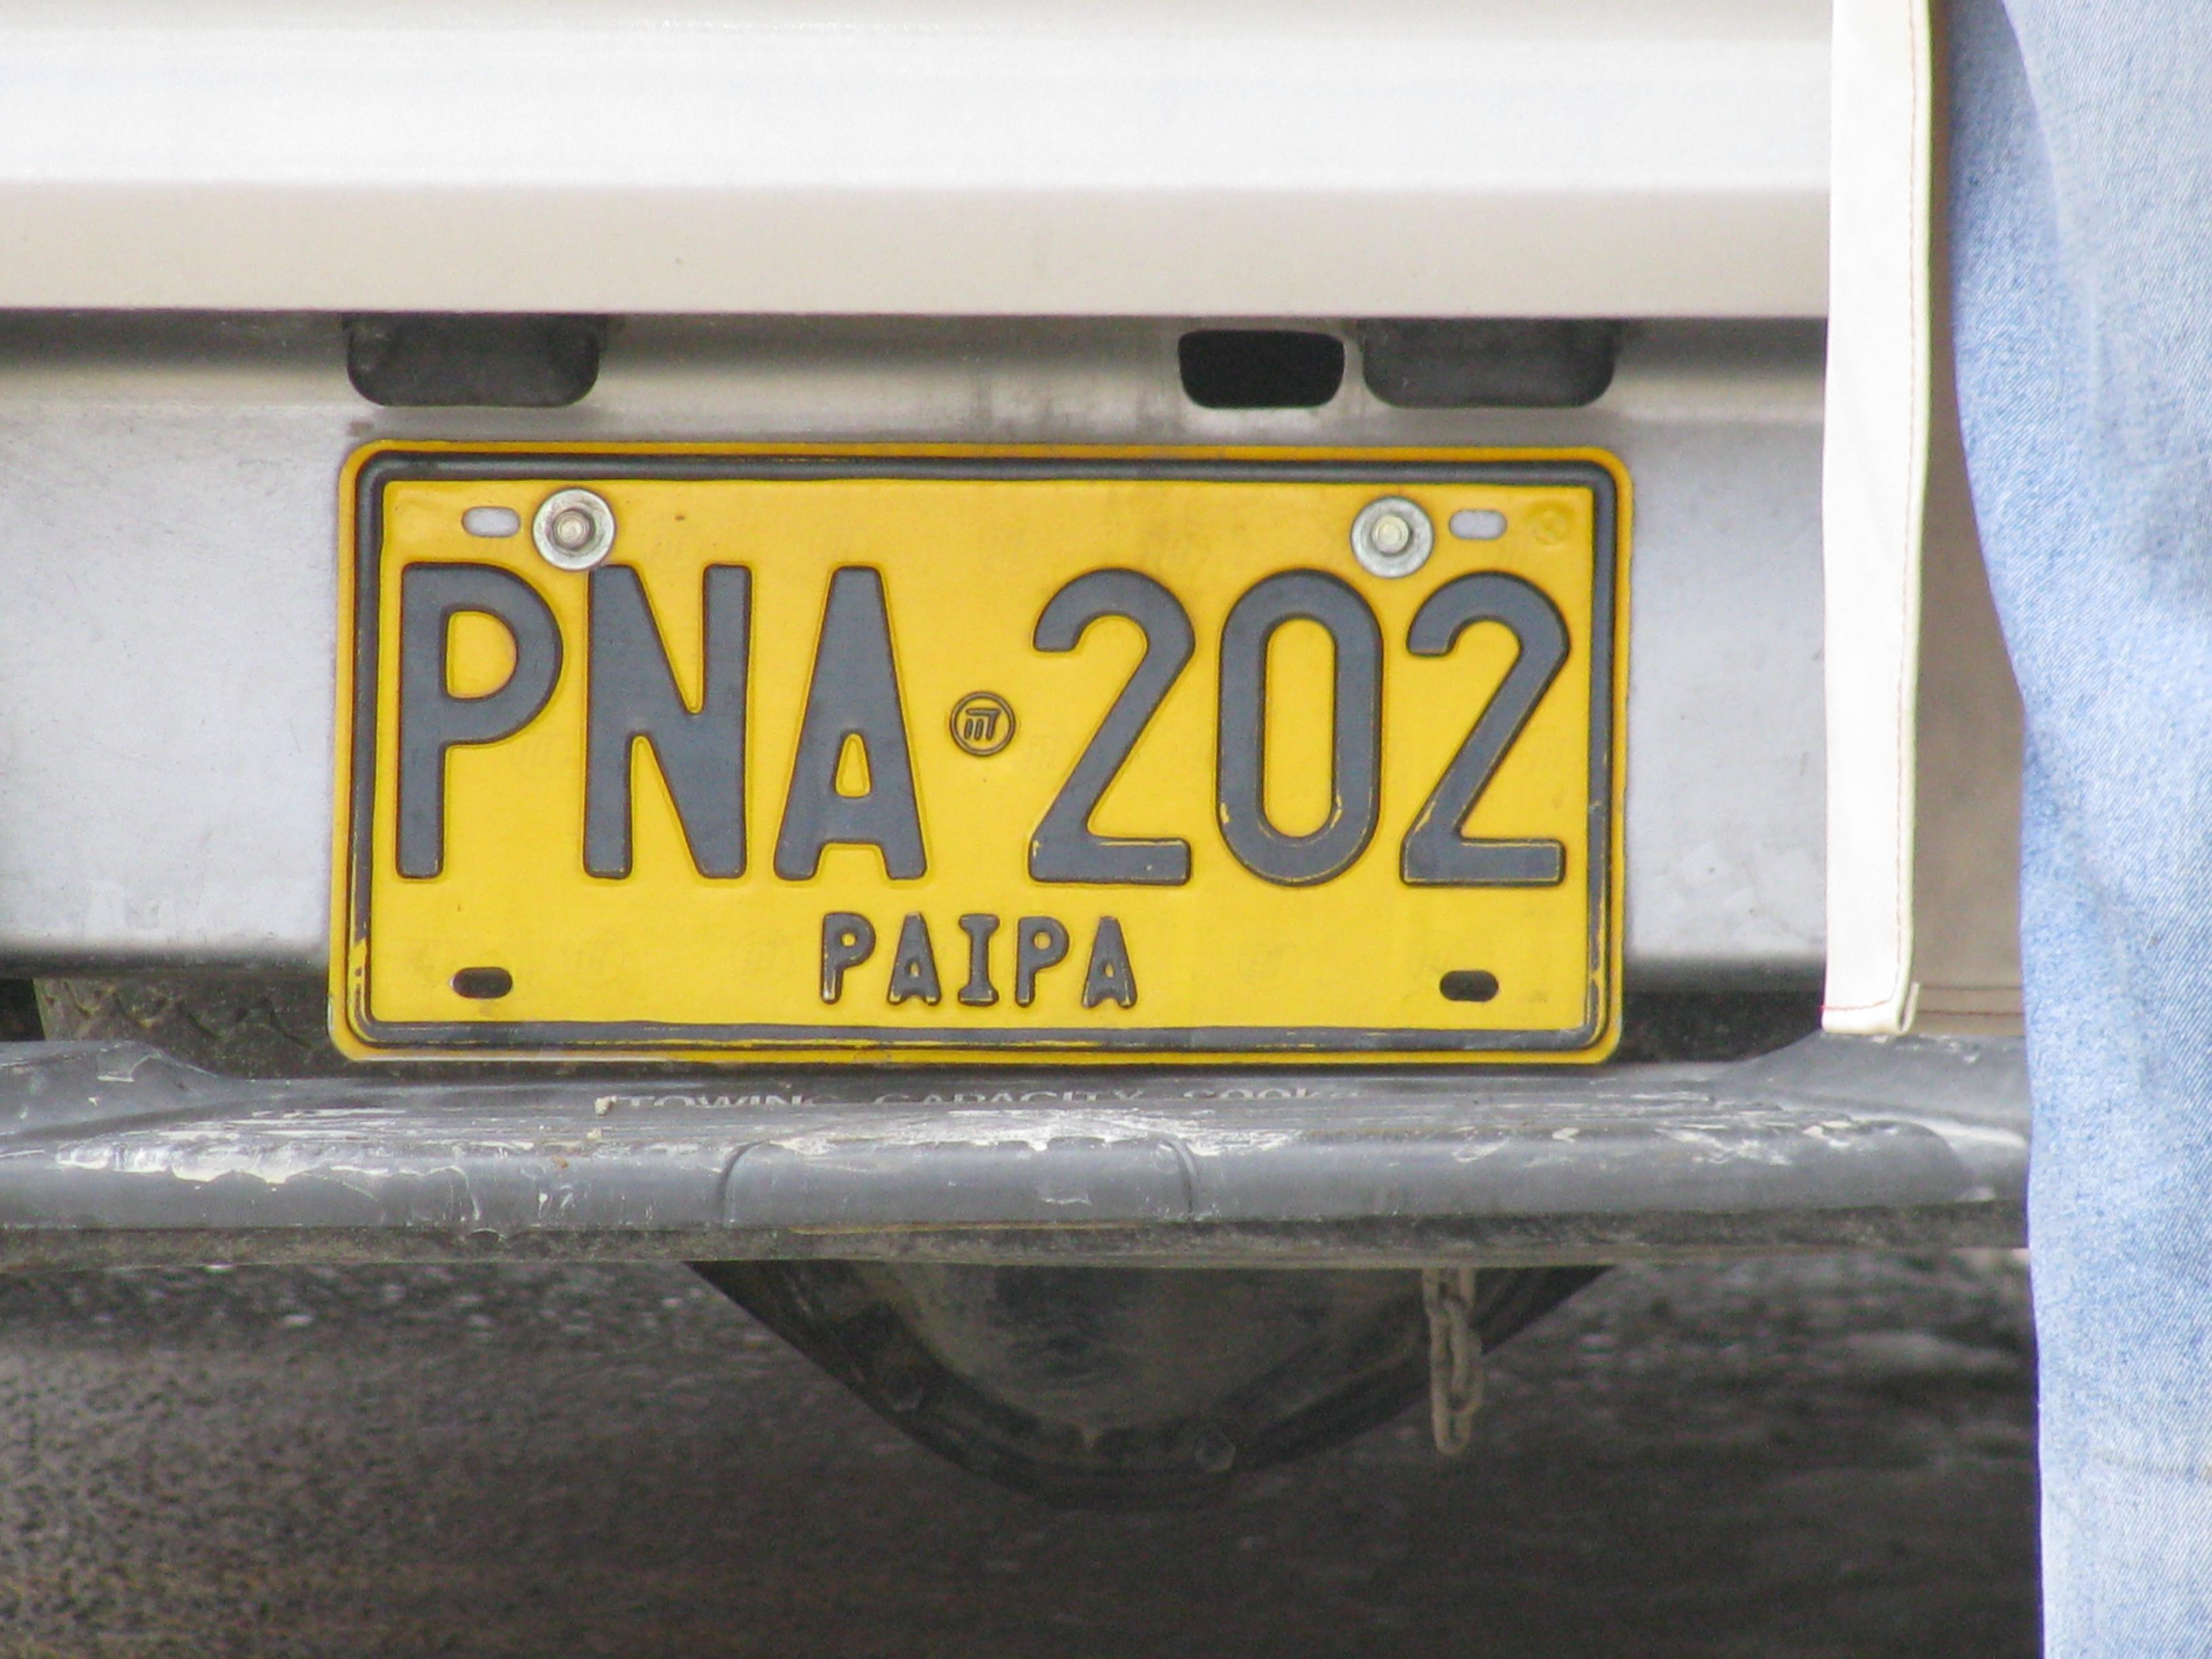placas: (321, 432, 1643, 1078)
